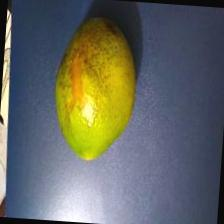Orange Rotten: (44, 7, 154, 170)
